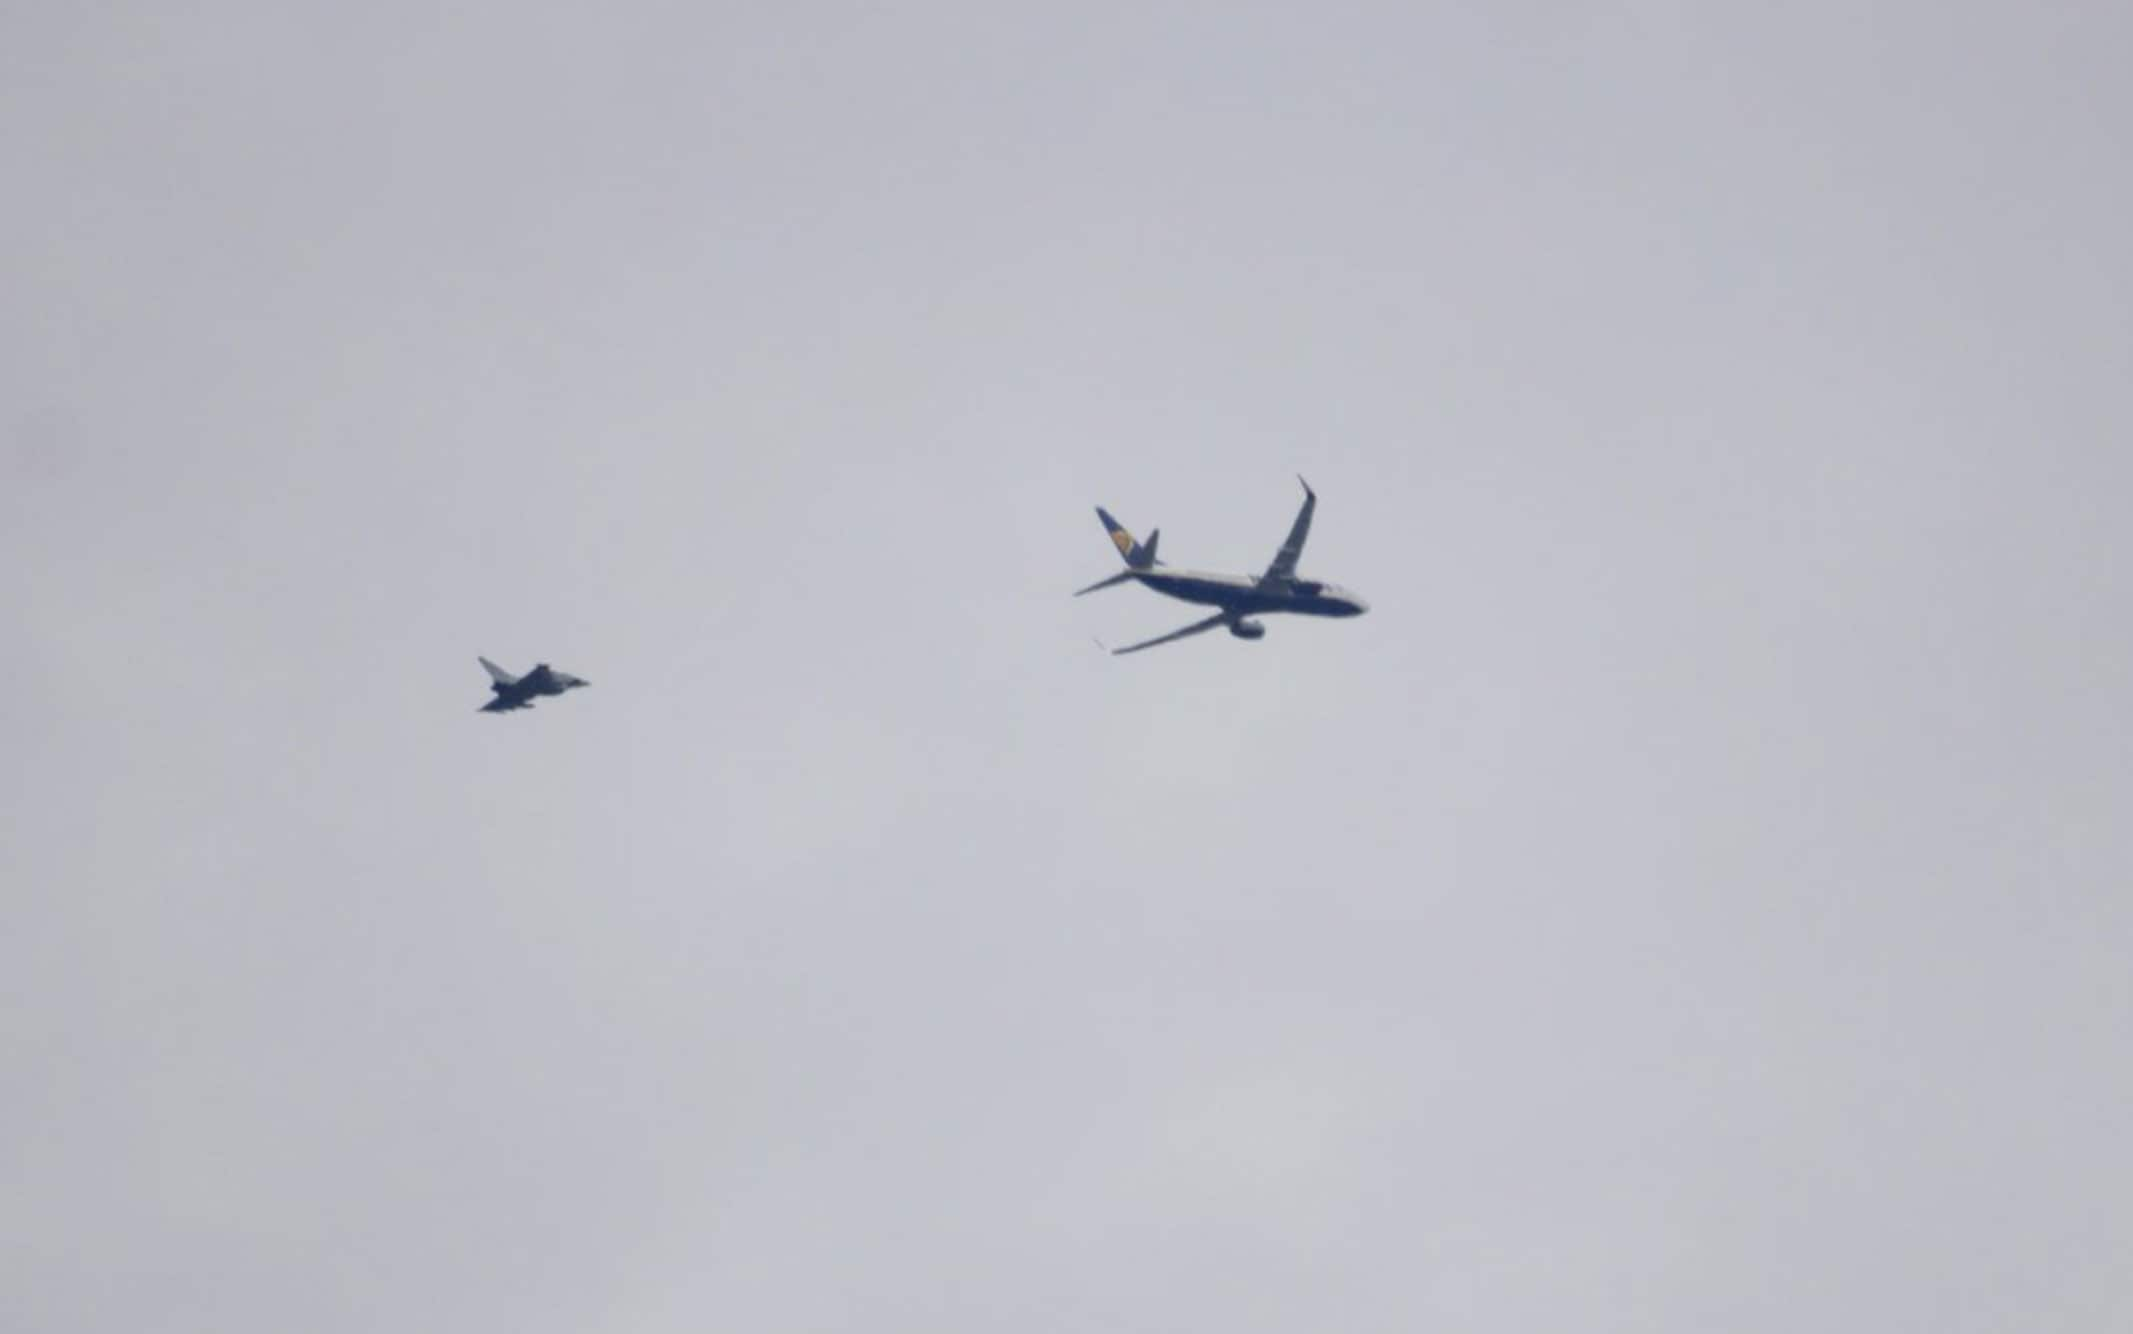plane: (1070, 469, 1371, 655), (473, 652, 592, 719)
